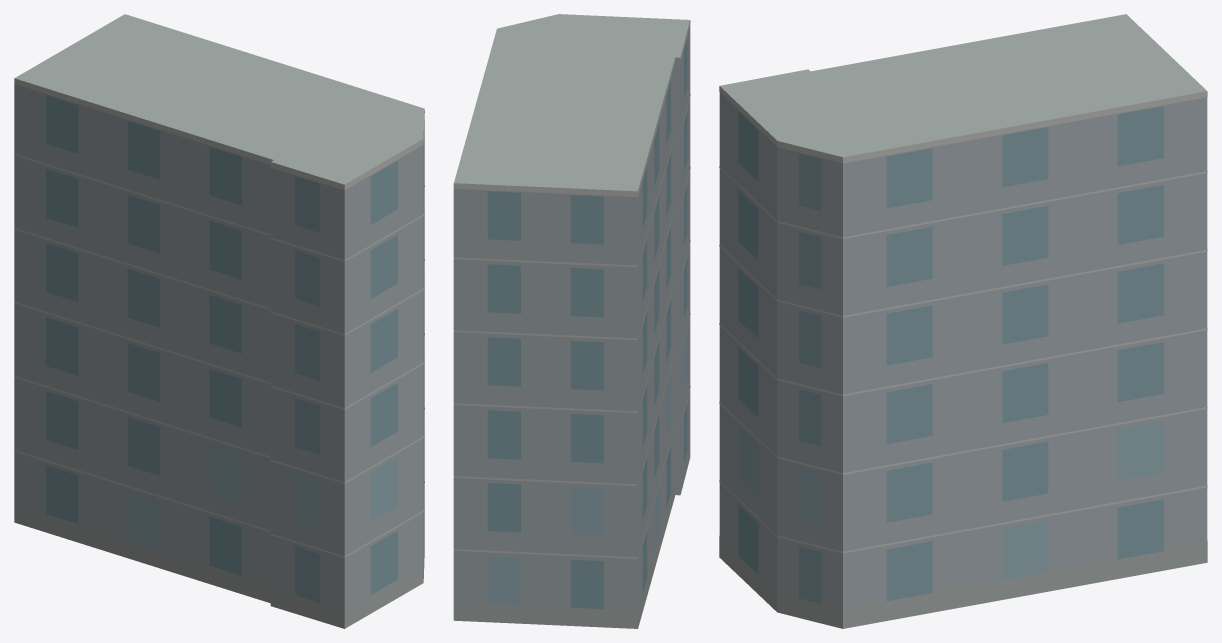
File: survey-upis-32940276.glb
The picture shows the model from 3 angles, left to right: view 1: azimuth 30°, elevation 25°; view 2: azimuth 150°, elevation 25°; view 3: azimuth 270°, elevation 25°; orthographic projection. The views are drawn at different scales.
Visible parts, largest first — view 1: survey-upis-32940276.tmp; view 2: survey-upis-32940276.tmp; view 3: survey-upis-32940276.tmp.
Boxes of the visible parts, box(x1,y1,x2,y2) form: survey-upis-32940276.tmp: box(14, 14, 424, 628); survey-upis-32940276.tmp: box(453, 14, 690, 628); survey-upis-32940276.tmp: box(719, 14, 1207, 628).
Bounding box in the file's own units: 12.28 × 18.8 × 17.65.
